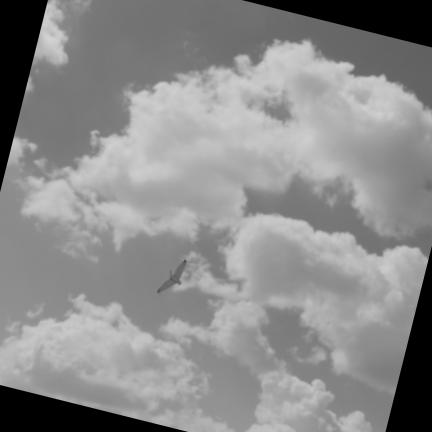Shahed: (156, 260, 186, 292)
